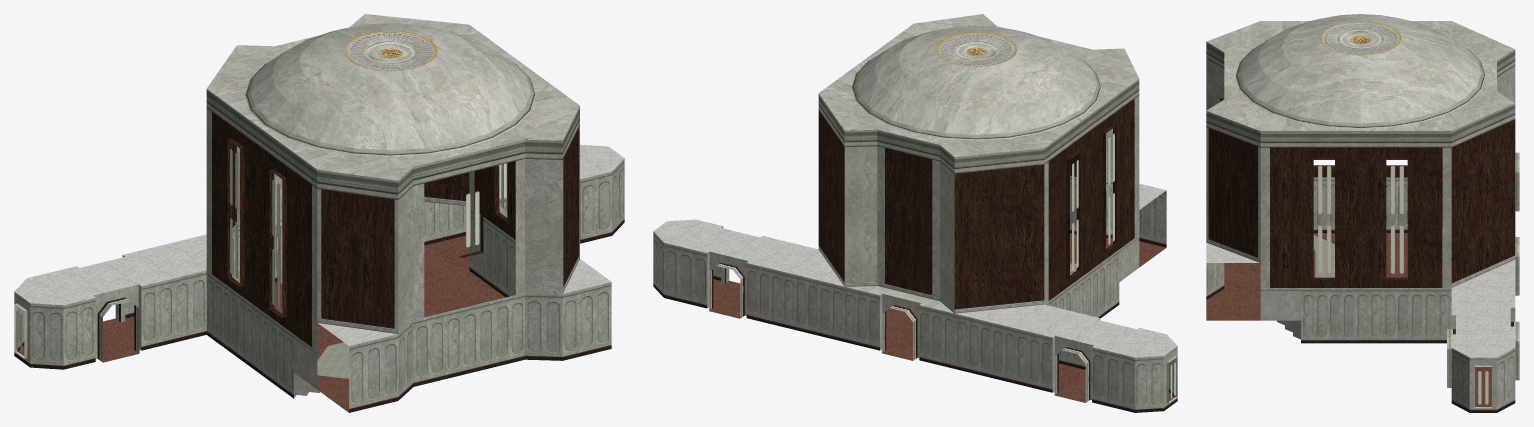
Rendered from mun_tato_guild_university_s01_r4_mainroom_mesh_mainroom.fbx.
3 renders of one model, left to right at view 1: azimuth 30°, elevation 25°; view 2: azimuth 150°, elevation 25°; view 3: azimuth 270°, elevation 25°, orthographic. The views are drawn at different scales.
Parts seen in each view (by area): view 1: mesh_node; view 2: mesh_node; view 3: mesh_node.
Boxes of the visible parts, <box> form: mesh_node: <box>14,14,624,412</box>; mesh_node: <box>653,14,1177,412</box>; mesh_node: <box>1206,14,1519,412</box>.
Bounding box in the file's own units: 32.83 × 15.18 × 17.25.
